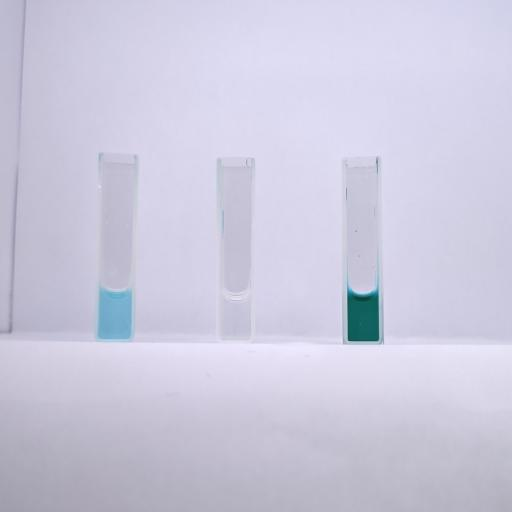cuvette: (92, 150, 141, 342), (339, 155, 387, 346), (214, 155, 256, 344)
liquid: (100, 288, 132, 338), (348, 291, 378, 341), (221, 291, 252, 339)
